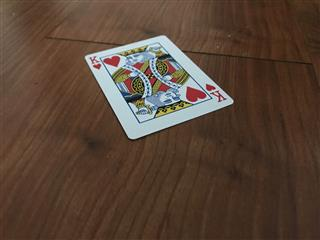KingOfHearts: (84, 34, 233, 139)
